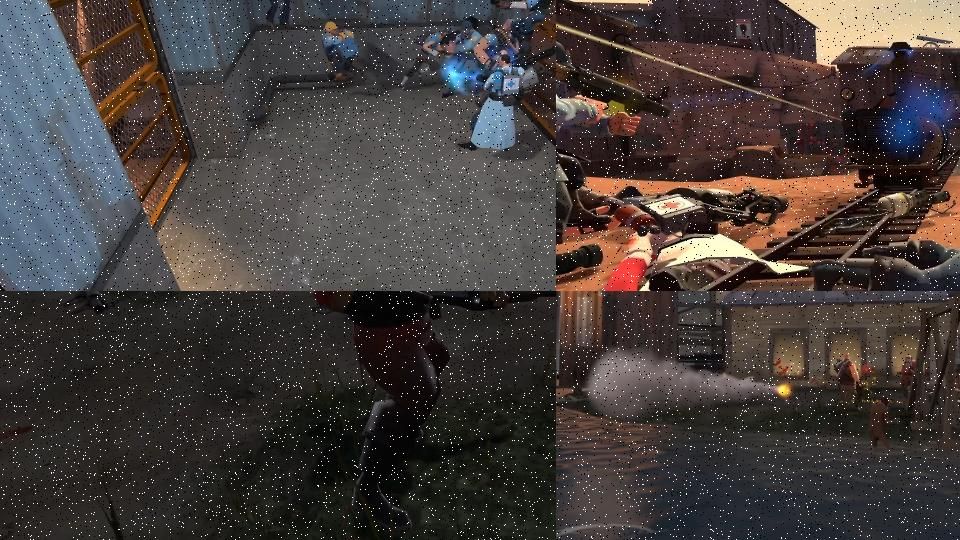Enemy: (308, 291, 556, 535), (556, 33, 676, 279), (609, 189, 812, 291), (809, 193, 960, 291), (458, 54, 526, 152), (473, 18, 556, 95), (439, 16, 483, 98), (490, 0, 554, 55), (400, 27, 452, 90), (322, 22, 362, 83), (246, 0, 323, 30), (869, 397, 911, 449), (835, 354, 872, 411), (897, 354, 916, 397)
